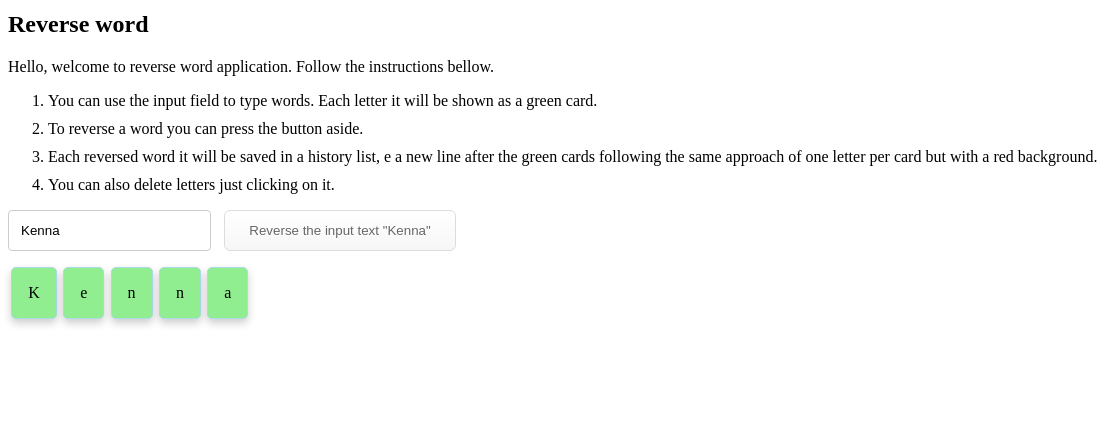
Test: Test CardContainer component › Test click button to reverse words, should create a new card with not reverse word and change the recentInput with a reversed word
This screenshot has width=1114, height=427.
Click the button "Reverse the input text \"Kenna\"".
click(340, 230)  # box 224,210 -> 456,251
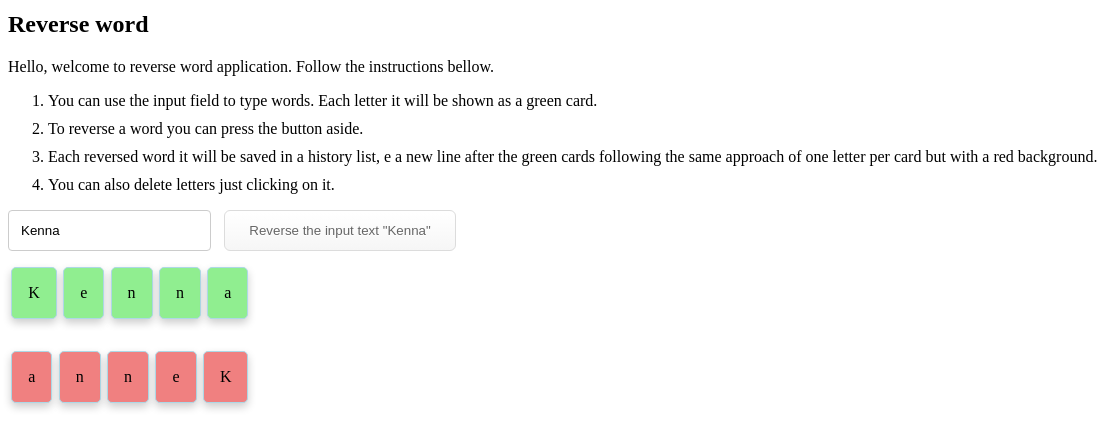
Check: the 2nd text "a" is shown, box 11,351 -> 52,403
Check: the 3rd text "n" is shown, box 59,351 -> 101,403
Check: the 4th text "n" is shown, box 107,351 -> 149,403
